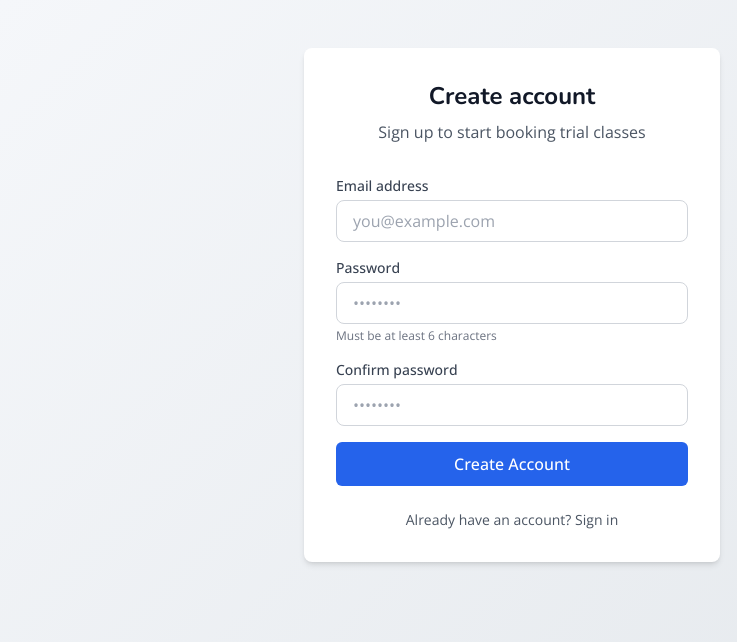
LR-SU UI & structure › LR-SU-007: submit disabled and label changes while pending
This screenshot has width=737, height=642.
Type "a@b.co" into the field labelled "Email address". click: (512, 221)
box: [336, 200, 688, 242]
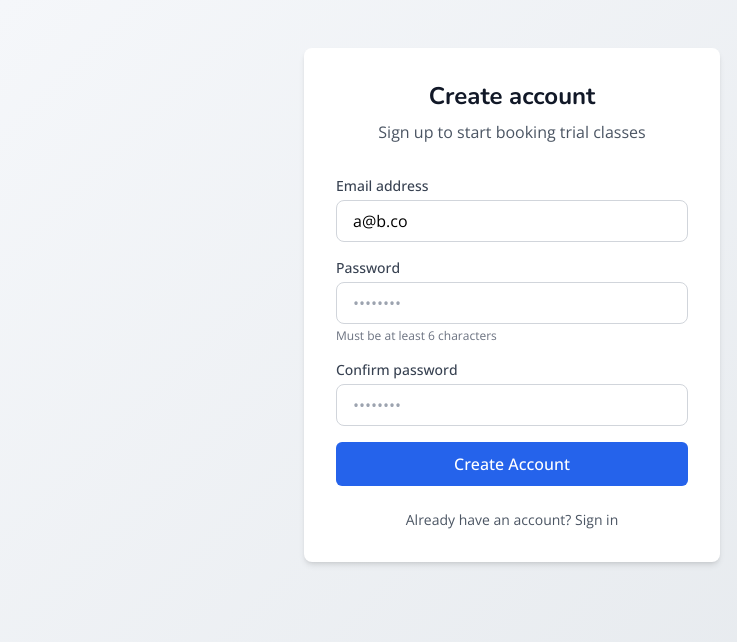
Type "123456" into the password field labelled "Password". click: (512, 303)
box: [336, 282, 688, 324]
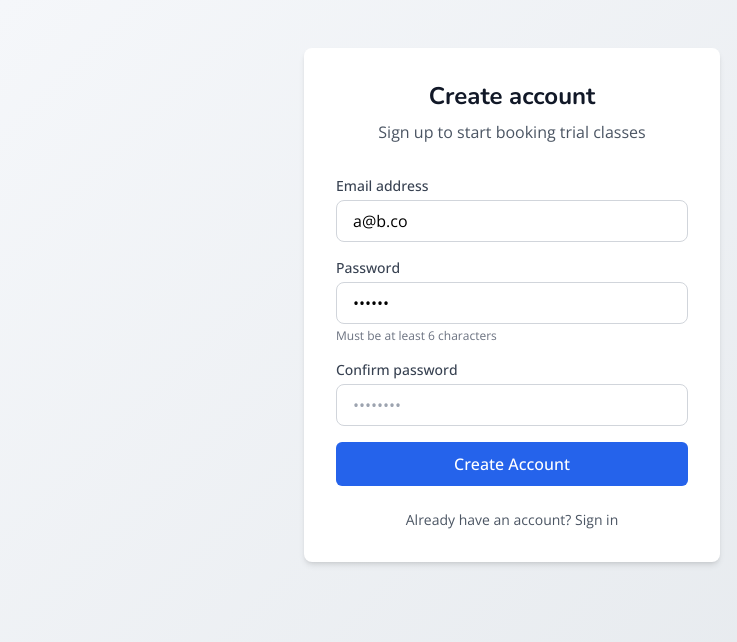
Type "123456" into the password field labelled "Confirm password". click: (512, 405)
box: [336, 384, 688, 426]
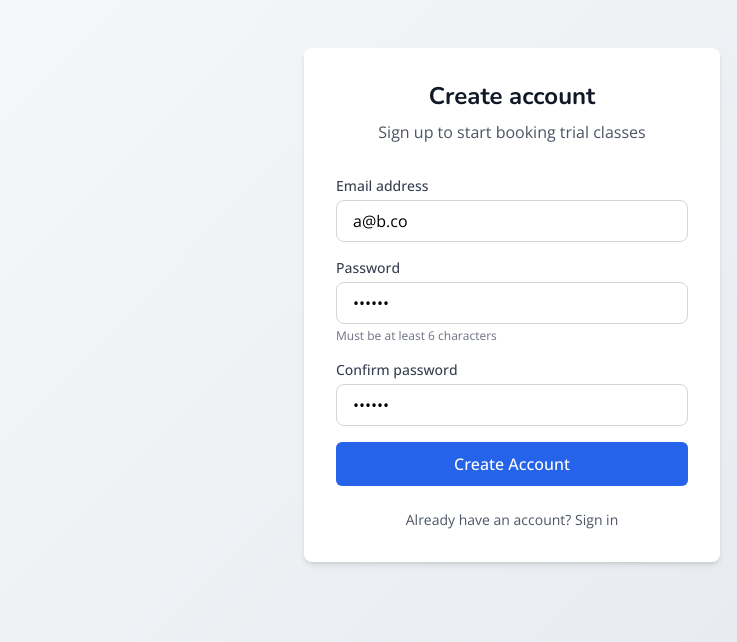
Submit the form, box [336, 176, 688, 486]
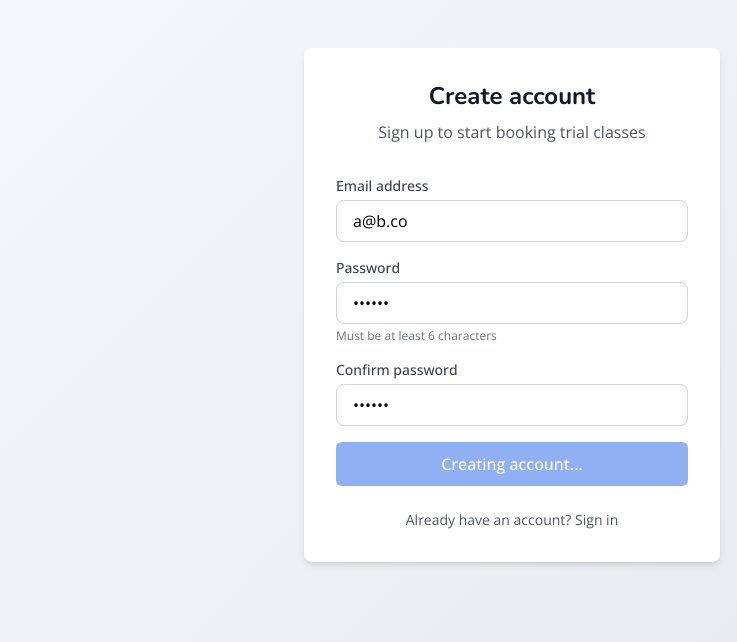
Result: the button "Creating account..." is disabled at [336, 442, 688, 486]
